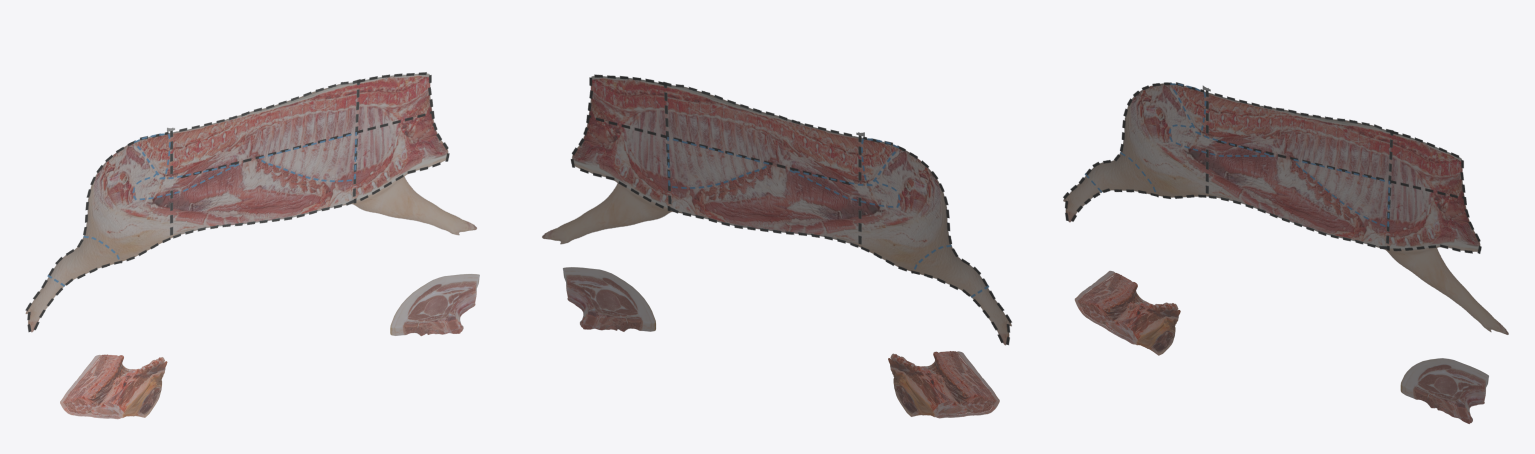
The model's file is Game_Pork2.glb.
3 views of the same model, side by side, from view 1: azimuth 30°, elevation 25°; view 2: azimuth 150°, elevation 25°; view 3: azimuth 330°, elevation 25° (orthographic). The views are drawn at different scales.
Visible parts, largest first — view 1: Pork, Shoulder, Belly; view 2: Pork, Shoulder, Belly; view 3: Pork, Shoulder, Belly.
Part boxes in pixels (x1,y1,x2,y2): Pork: (25, 72, 477, 332); Shoulder: (60, 354, 167, 419); Belly: (390, 274, 479, 335); Pork: (542, 74, 1011, 345); Shoulder: (888, 351, 999, 418); Belly: (563, 267, 655, 331); Pork: (1063, 82, 1508, 334); Shoulder: (1074, 270, 1180, 355); Belly: (1400, 358, 1488, 423).
Bounding box in the file's own units: 3.61 × 2.25 × 0.1496.
3 materials, 3 textured.
